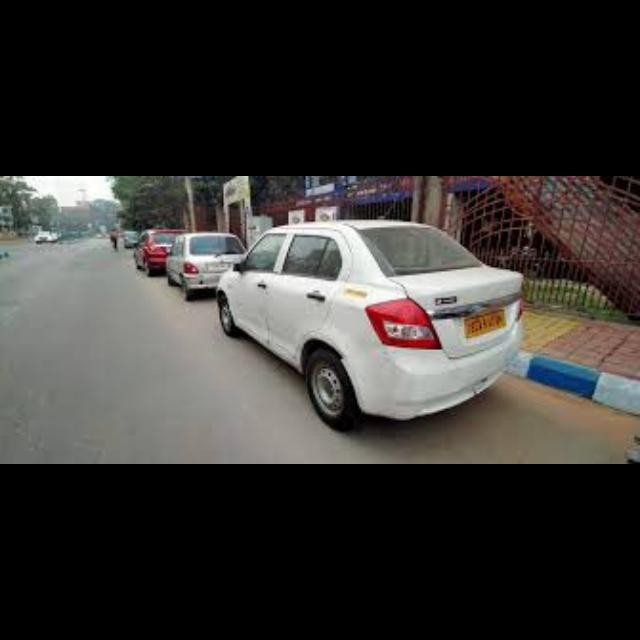number-plate: (466, 308, 508, 337), (205, 261, 230, 272)
vehicles: (220, 212, 529, 432), (168, 232, 250, 301), (137, 228, 183, 274), (123, 230, 142, 247), (35, 232, 62, 243)
